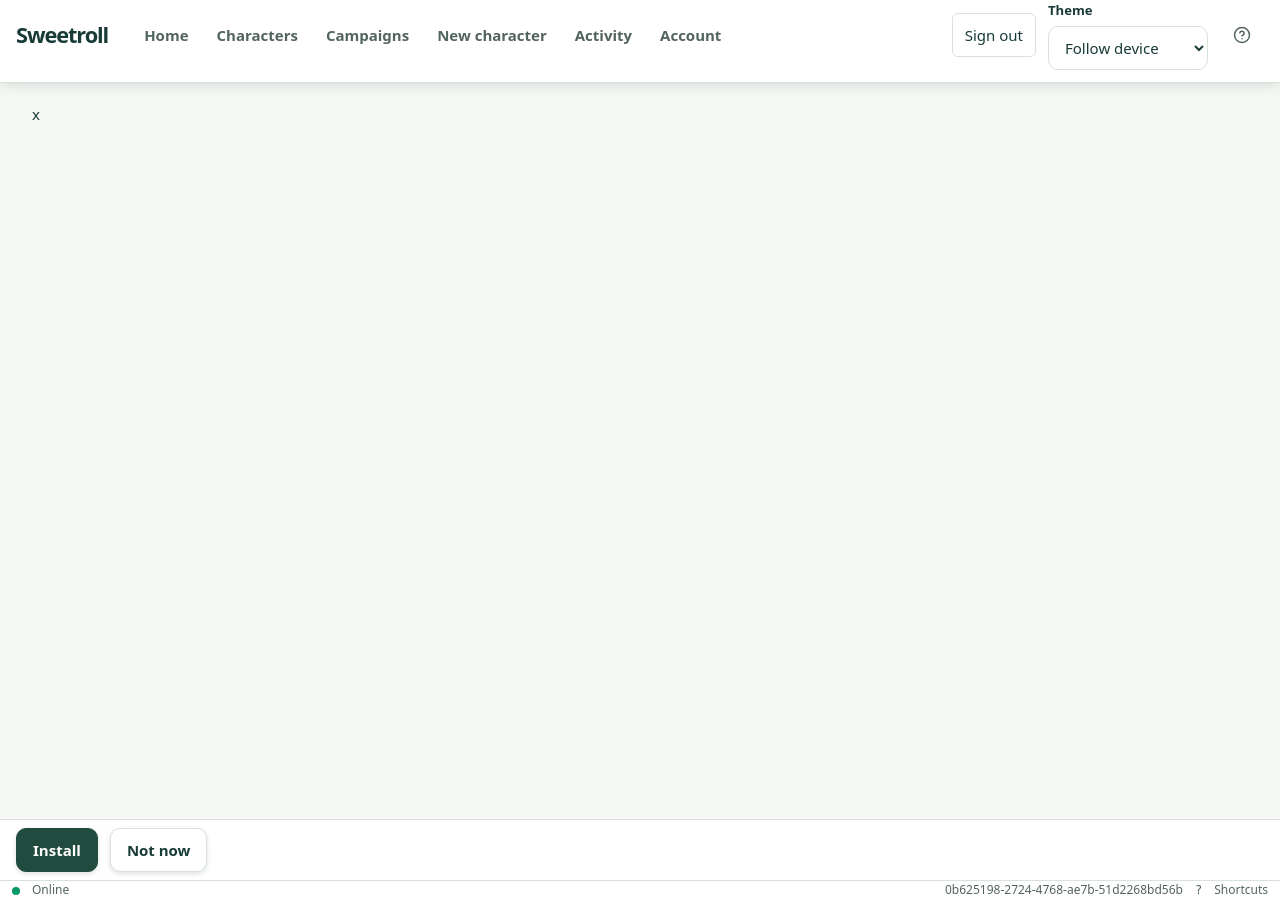
Test: PWA install prompt (G6 Task 3) › captures beforeinstallprompt into a shared Install button with persisted dismiss
Check: the button "Sign out" is shown, box [952, 13, 1036, 57]
Check: the button "Install" is shown, box [16, 828, 98, 872]
Click the button "Not now" at (159, 850), box [110, 828, 208, 872]
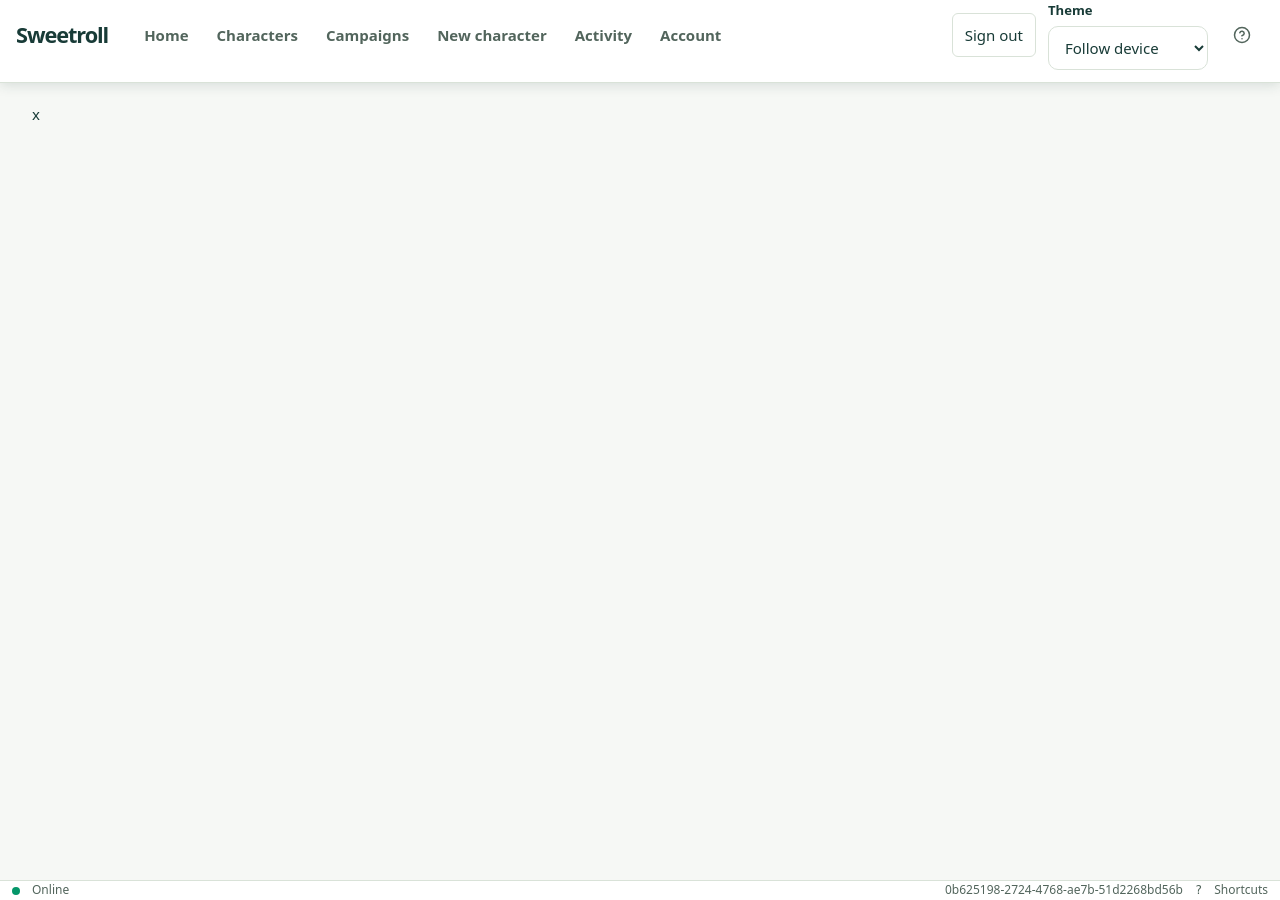
Check: the button "Install" is gone
